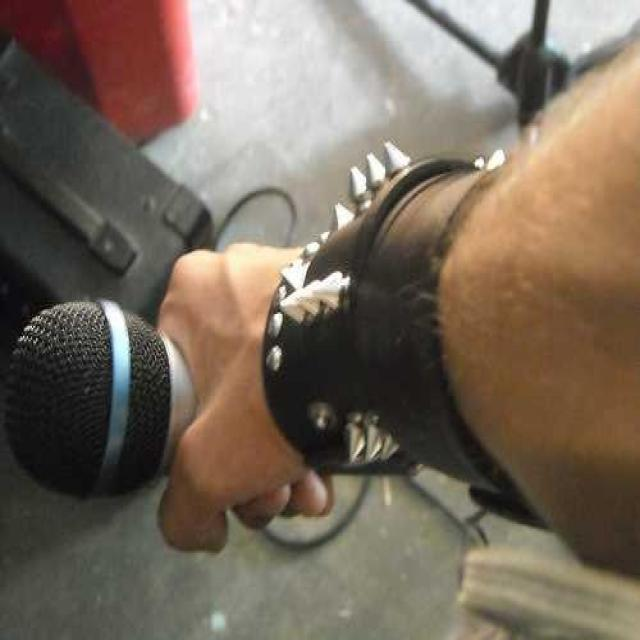microphone: (0, 273, 328, 538)
